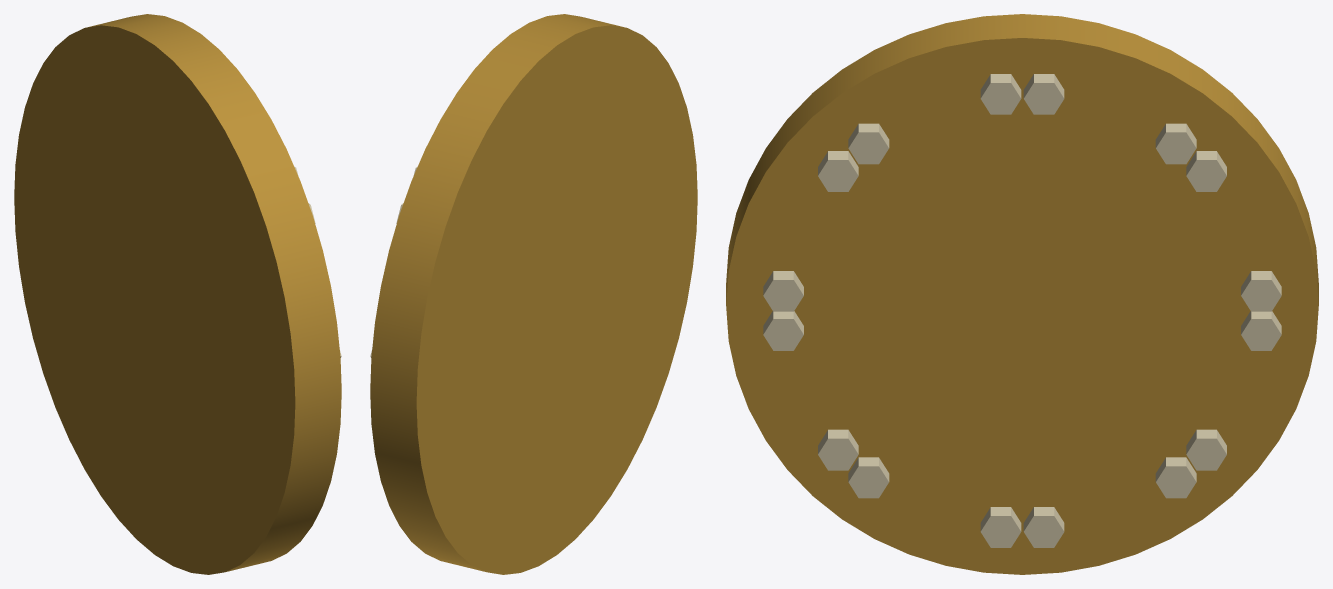
File: hefe_mount.obj
3 views of the same model, side by side, from view 1: azimuth 30°, elevation 25°; view 2: azimuth 150°, elevation 25°; view 3: azimuth 270°, elevation 25° (orthographic). The views are drawn at different scales.
Parts seen in each view (by area): view 1: hefe_mount; view 2: hefe_mount; view 3: hefe_mount.
Boxes of the visible parts, left/top/right/bottom form: hefe_mount: left=14, top=14, right=341, bottom=574; hefe_mount: left=370, top=14, right=697, bottom=574; hefe_mount: left=726, top=14, right=1318, bottom=574.
Bounding box in the file's own units: 0.11 × 0.84 × 0.84.
